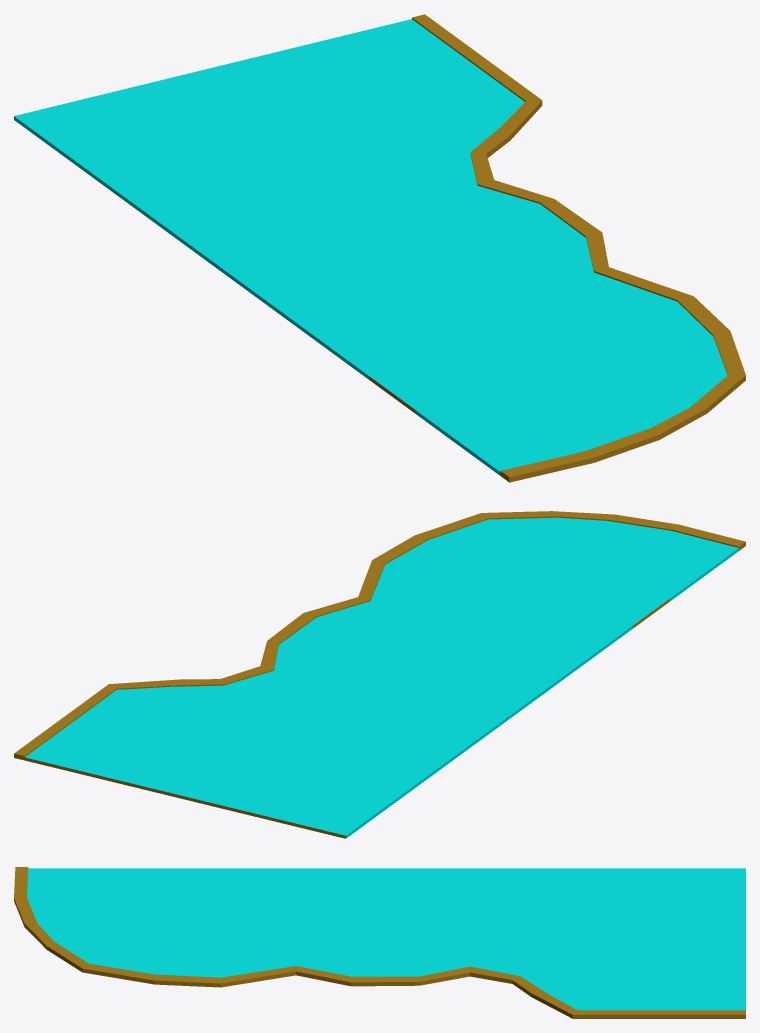
The model's file is SM_RF_WaterPool_01.fbx.
The picture shows the model from 3 angles, top to bottom: view 1: azimuth 30°, elevation 25°; view 2: azimuth 150°, elevation 25°; view 3: azimuth 270°, elevation 25°; orthographic projection. The views are drawn at different scales.
Parts seen in each view (by area): view 1: SM_RF_WaterPool; view 2: SM_RF_WaterPool; view 3: SM_RF_WaterPool.
Boxes of the visible parts, x1,y1,x2,y2 form: SM_RF_WaterPool: [14, 14, 745, 482]; SM_RF_WaterPool: [14, 511, 745, 838]; SM_RF_WaterPool: [14, 867, 745, 1018].
Size of the model in its own units: 2816 by 35.25 by 5892.
